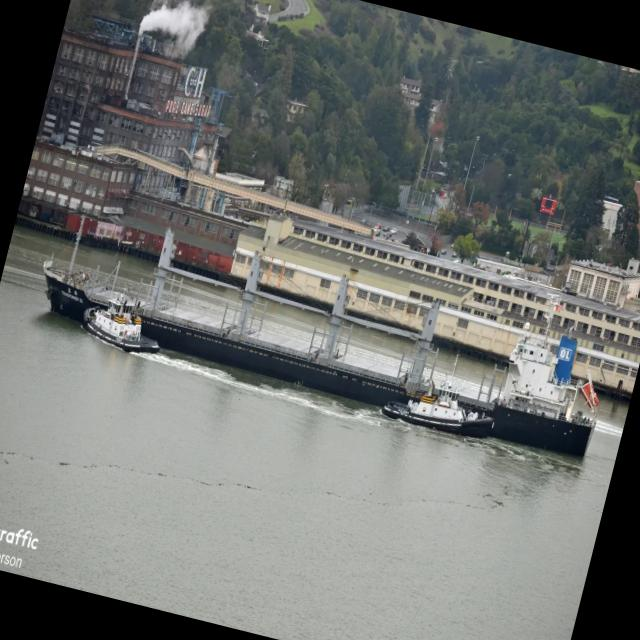Tug: (381, 379, 492, 436), (83, 293, 159, 352)
